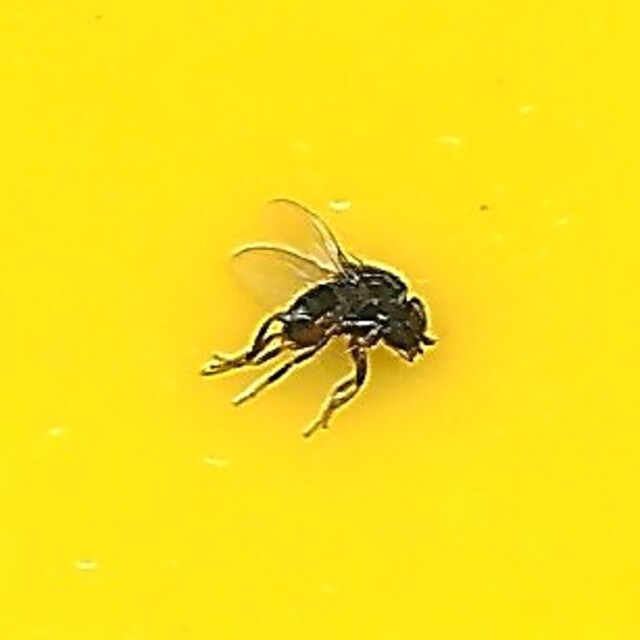Brachycera: (208, 203, 432, 437)
